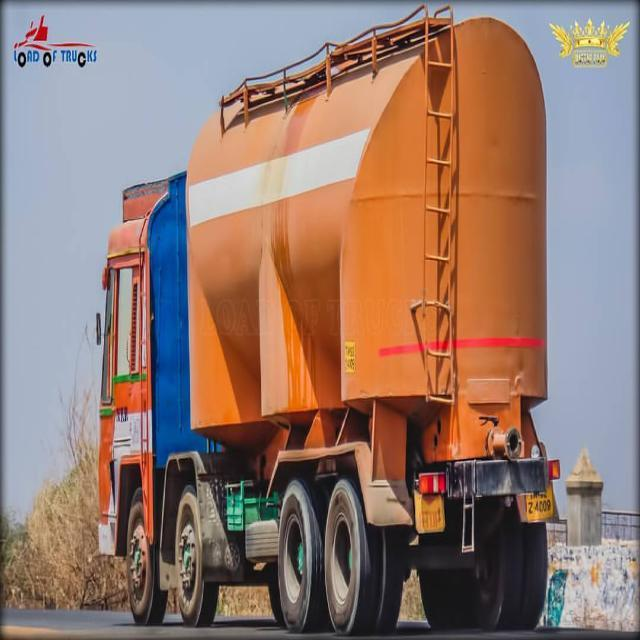Truck: (95, 1, 563, 640)
